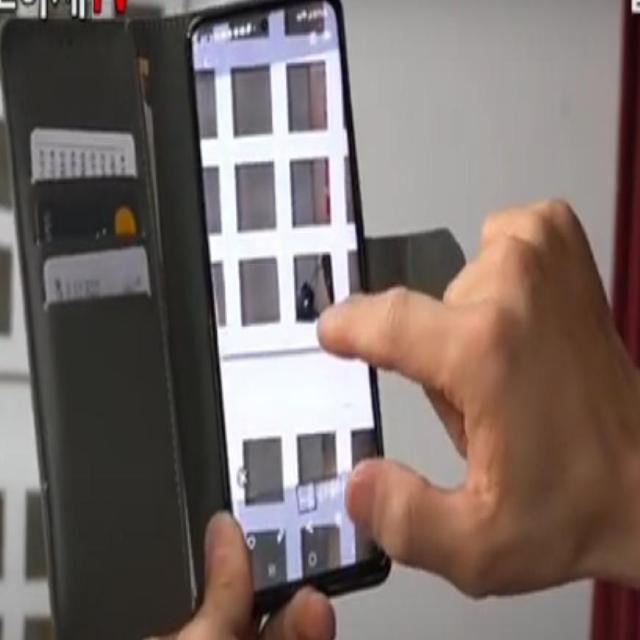hidden camera: (302, 296, 311, 310)
